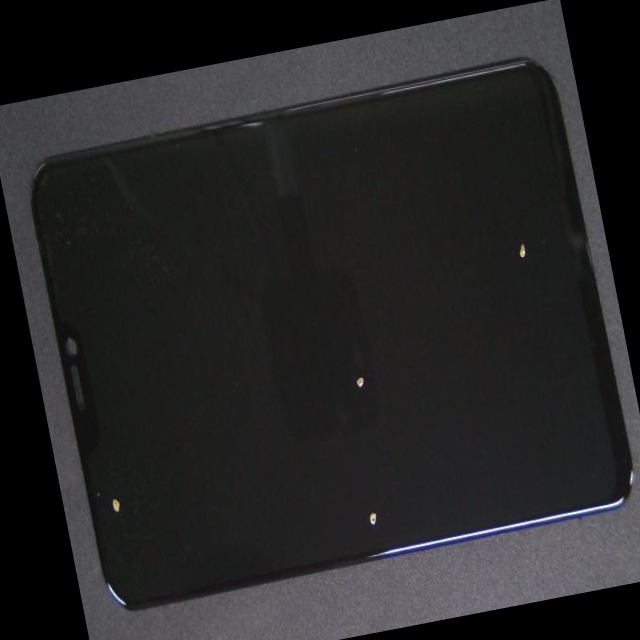stain: (134, 190, 536, 610), (200, 295, 565, 640), (254, 58, 622, 380), (57, 256, 171, 640)
